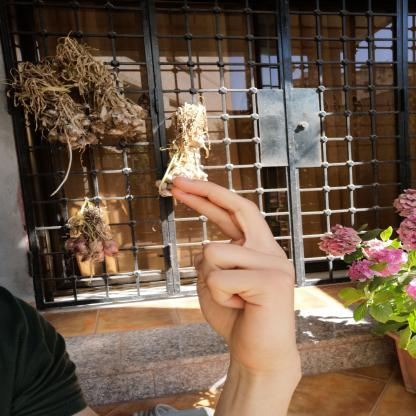ZAY: (154, 169, 310, 377)
